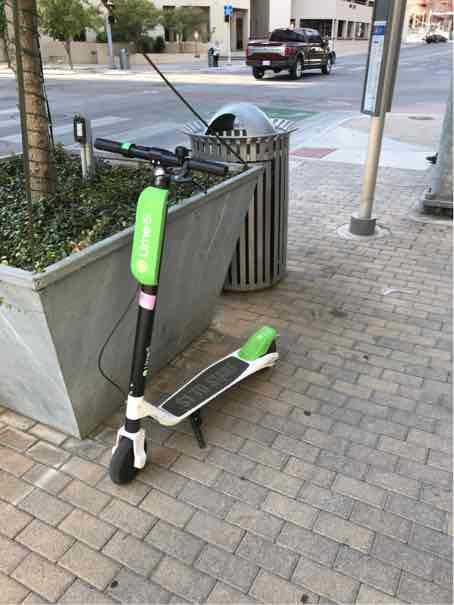scooter: (81, 120, 324, 500)
